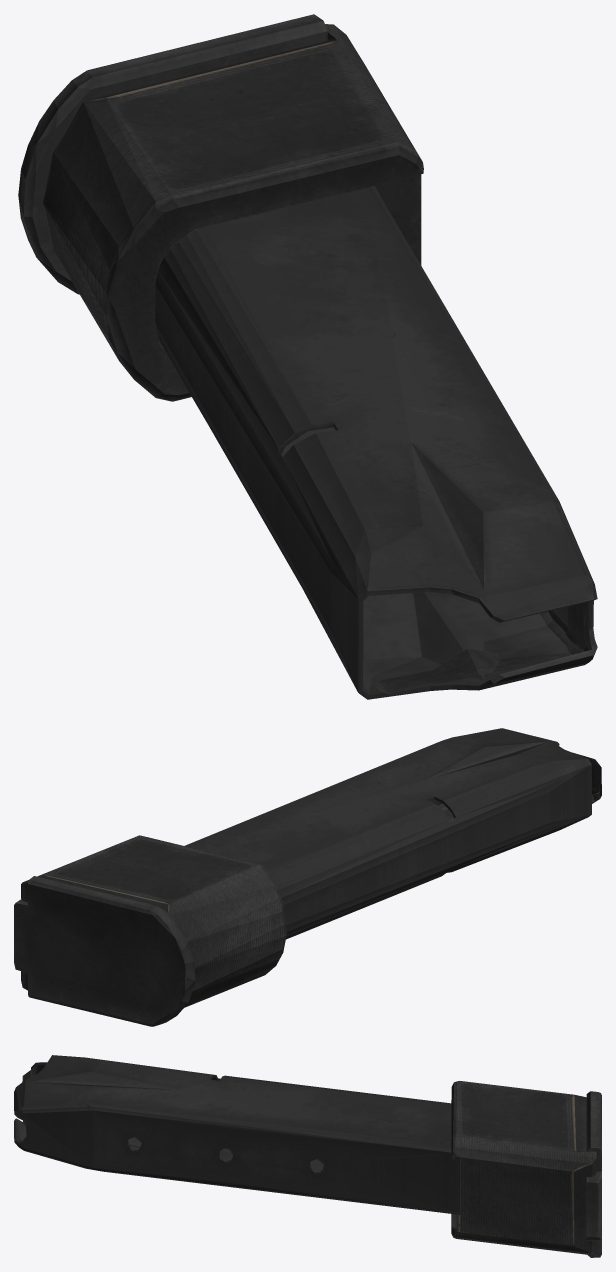
The model's file is Mag9ExtSm_Ground.fbx.
3 views of the same model, one above another, from view 1: azimuth 30°, elevation 25°; view 2: azimuth 150°, elevation 25°; view 3: azimuth 270°, elevation 25° (orthographic). The views are drawn at different scales.
Parts seen in each view (by area): view 1: Mag9ExtSm; view 2: Mag9ExtSm; view 3: Mag9ExtSm.
Boxes of the visible parts, <box> form: Mag9ExtSm: <box>18,14,597,699</box>; Mag9ExtSm: <box>14,728,601,1026</box>; Mag9ExtSm: <box>14,1055,601,1257</box>.
Size of the model in its own units: 0.0693 by 0.0273 by 0.132.
